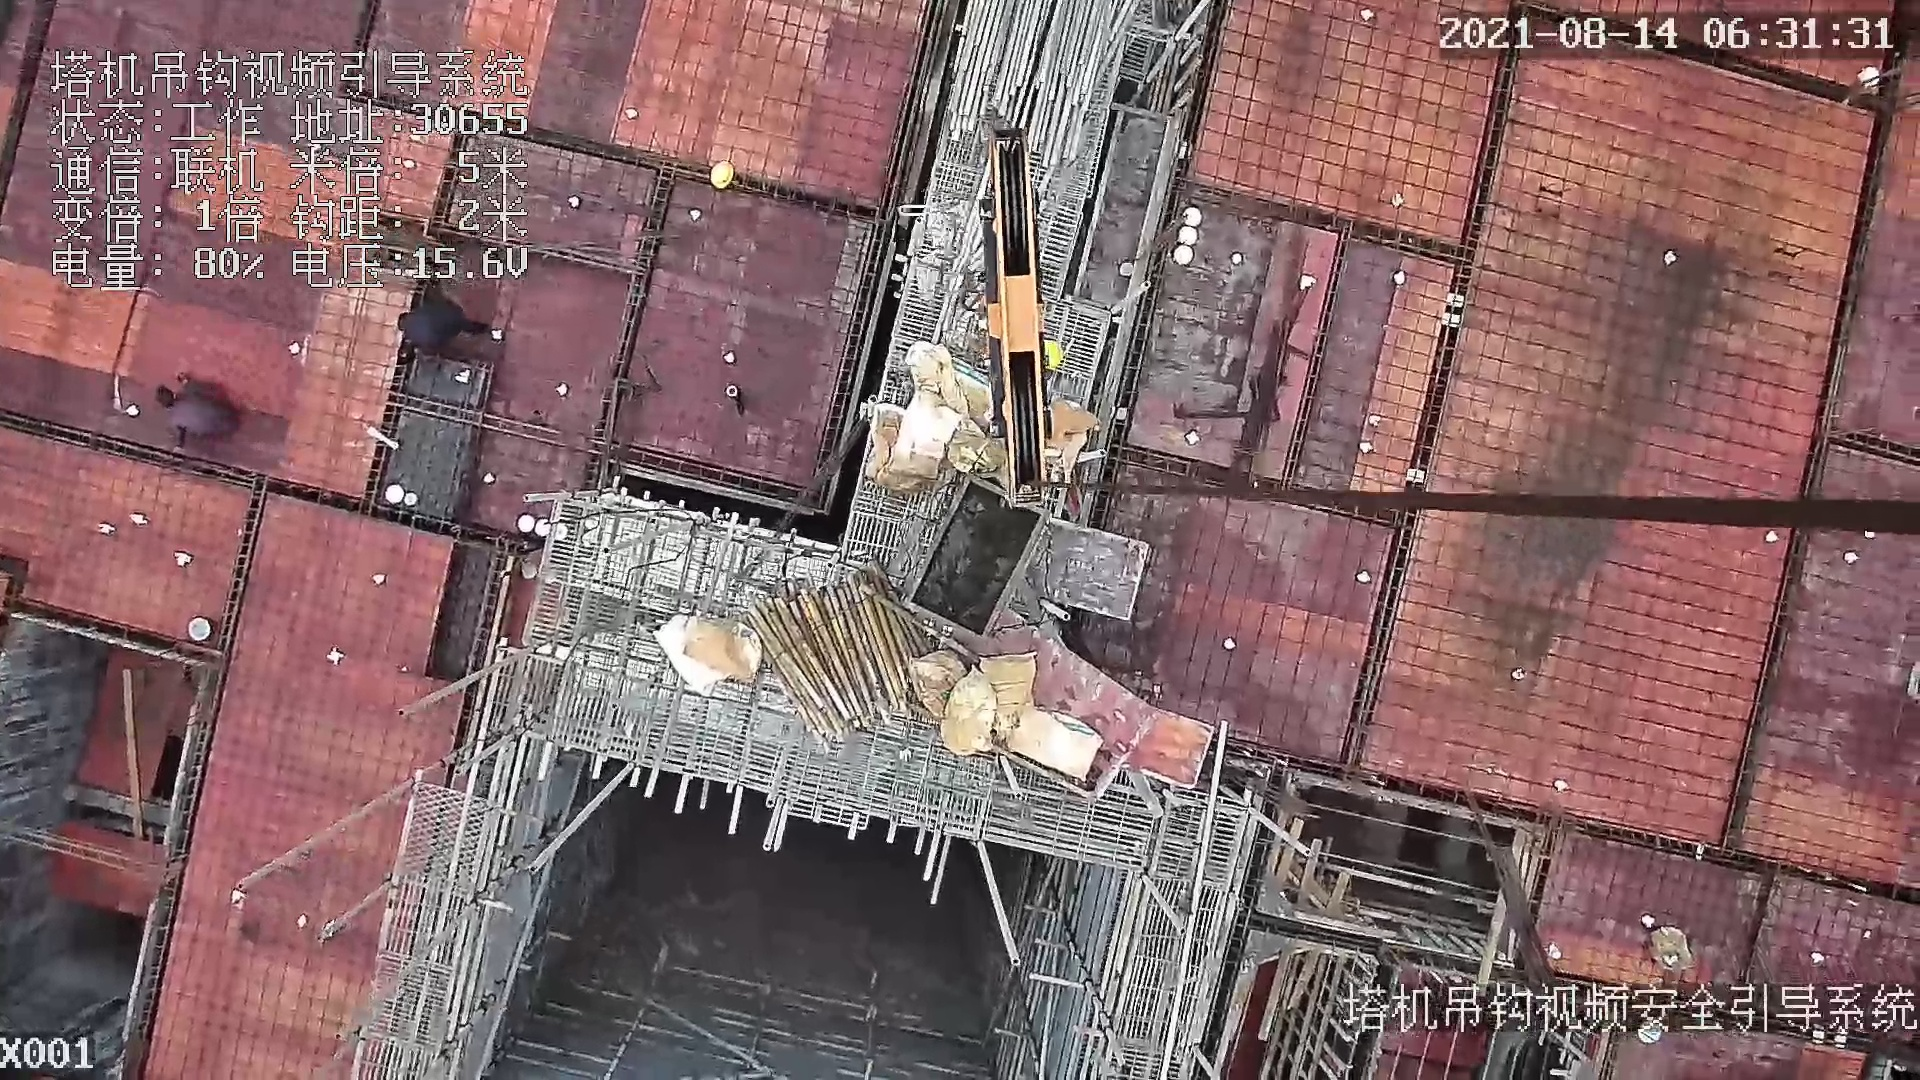helmet: (709, 160, 739, 194)
hook: (976, 126, 1055, 508)
hopper: (926, 487, 1050, 637)
person: (153, 371, 244, 448), (391, 289, 492, 355)
scaffold: (732, 556, 931, 754)
